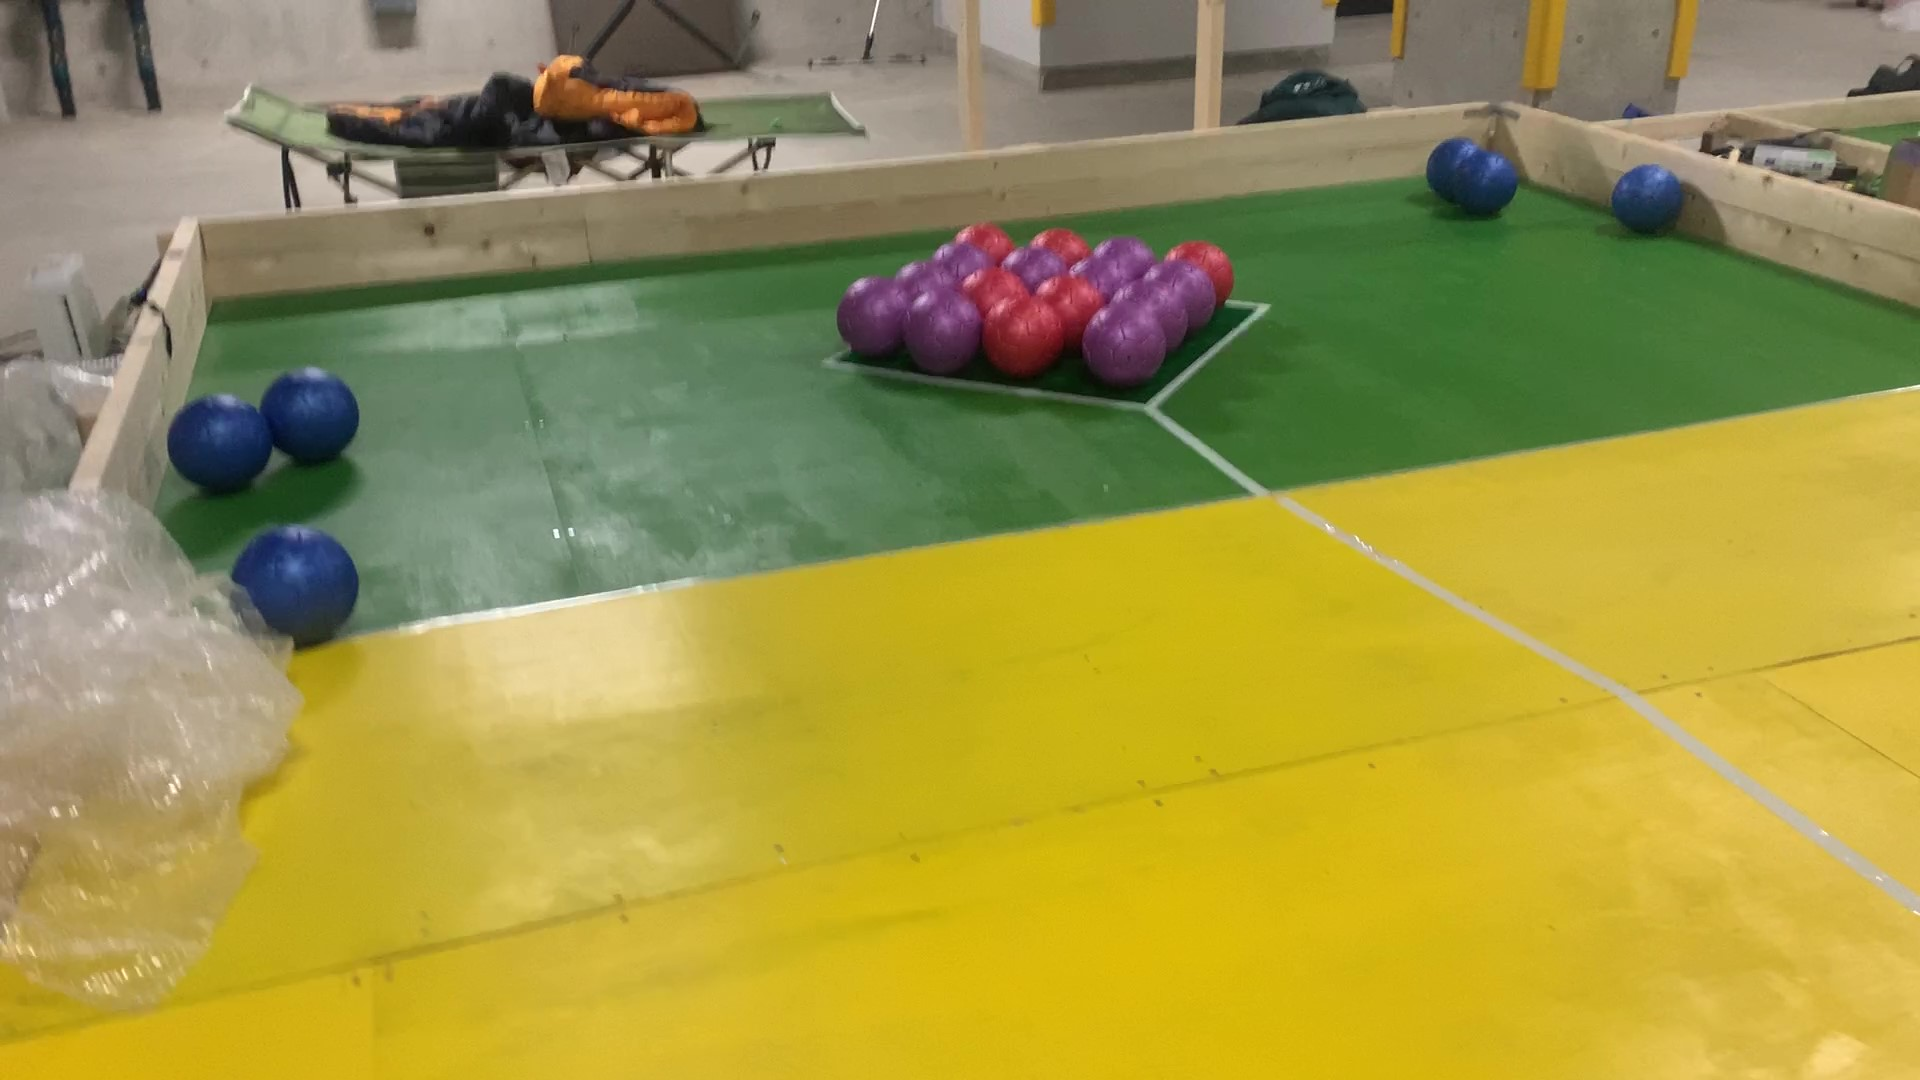blue: (252, 541, 340, 629), (173, 402, 258, 487), (270, 381, 344, 451), (1613, 167, 1685, 228), (1465, 161, 1518, 212), (1432, 146, 1460, 200)
purple: (914, 305, 980, 367), (1101, 309, 1156, 380), (840, 293, 891, 359), (1185, 269, 1215, 328), (1100, 232, 1154, 262), (905, 257, 951, 291), (1081, 262, 1131, 287), (1127, 280, 1171, 306), (949, 243, 980, 276), (1018, 253, 1058, 277)
red: (994, 314, 1046, 368), (1050, 281, 1102, 316), (1048, 225, 1093, 257), (963, 219, 1013, 244), (1176, 236, 1216, 266), (977, 274, 1014, 305)
